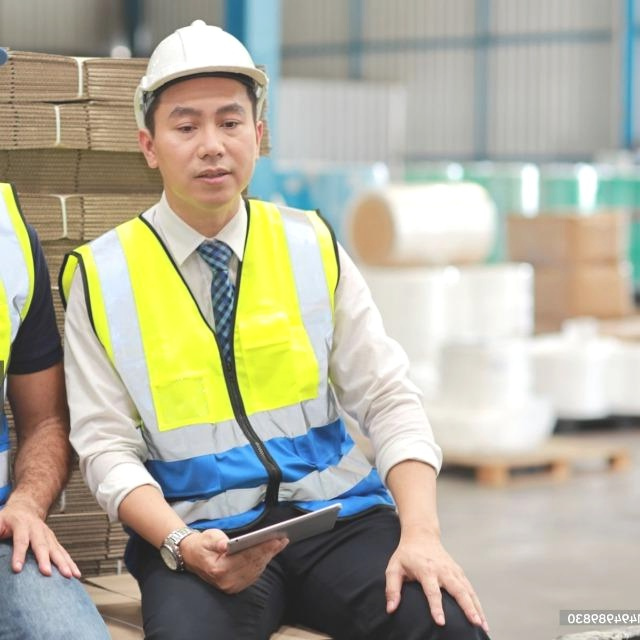Con_Casco: (132, 20, 272, 210)
Con_Chaleco: (74, 196, 349, 543)
